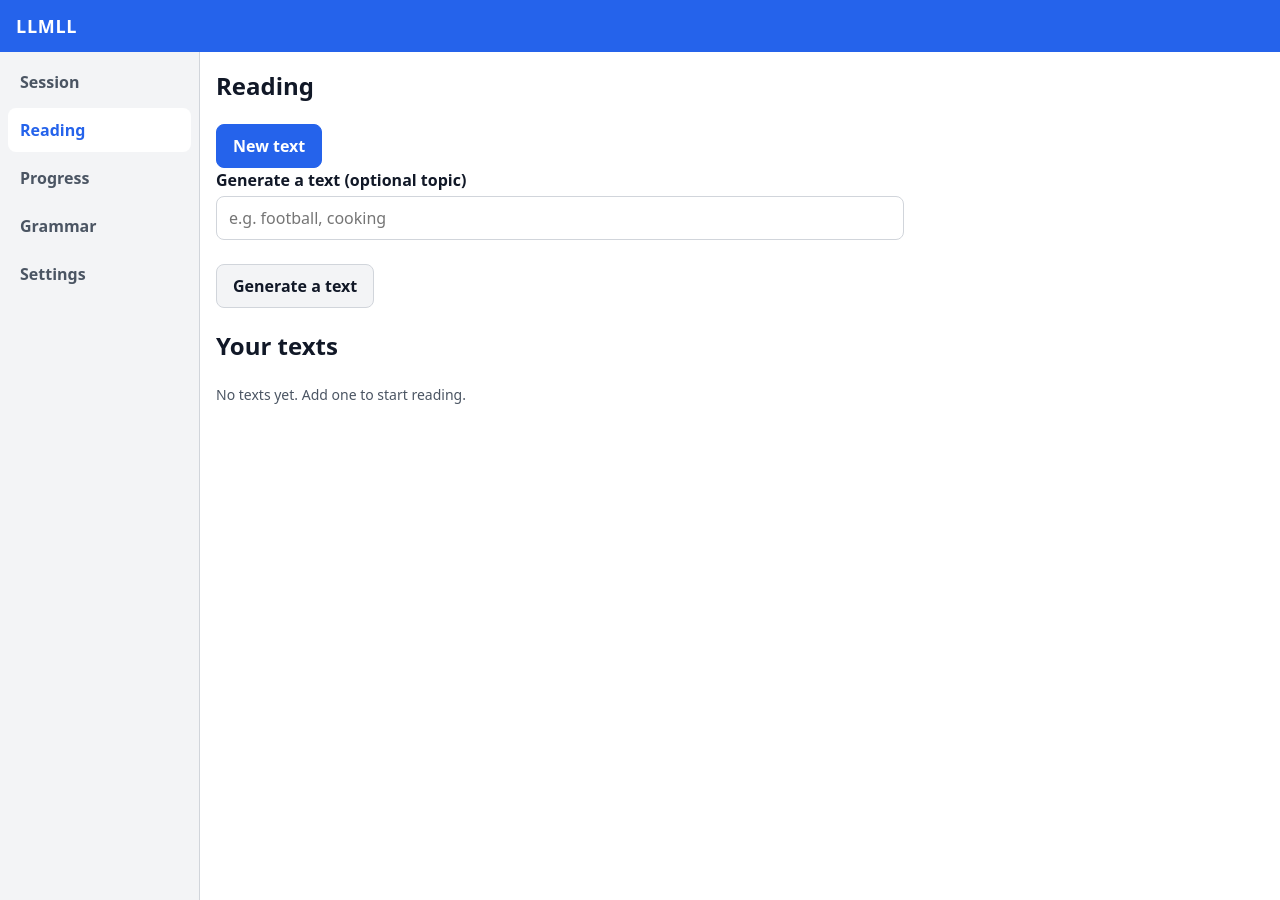
Test case: Reading list and new text › generates a text with a topic
This screenshot has width=1280, height=900.
Type "cucina" into the field labelled "Generate a text (optional topic)".
click(560, 218); type("cucina")  # box [216, 196, 904, 240]
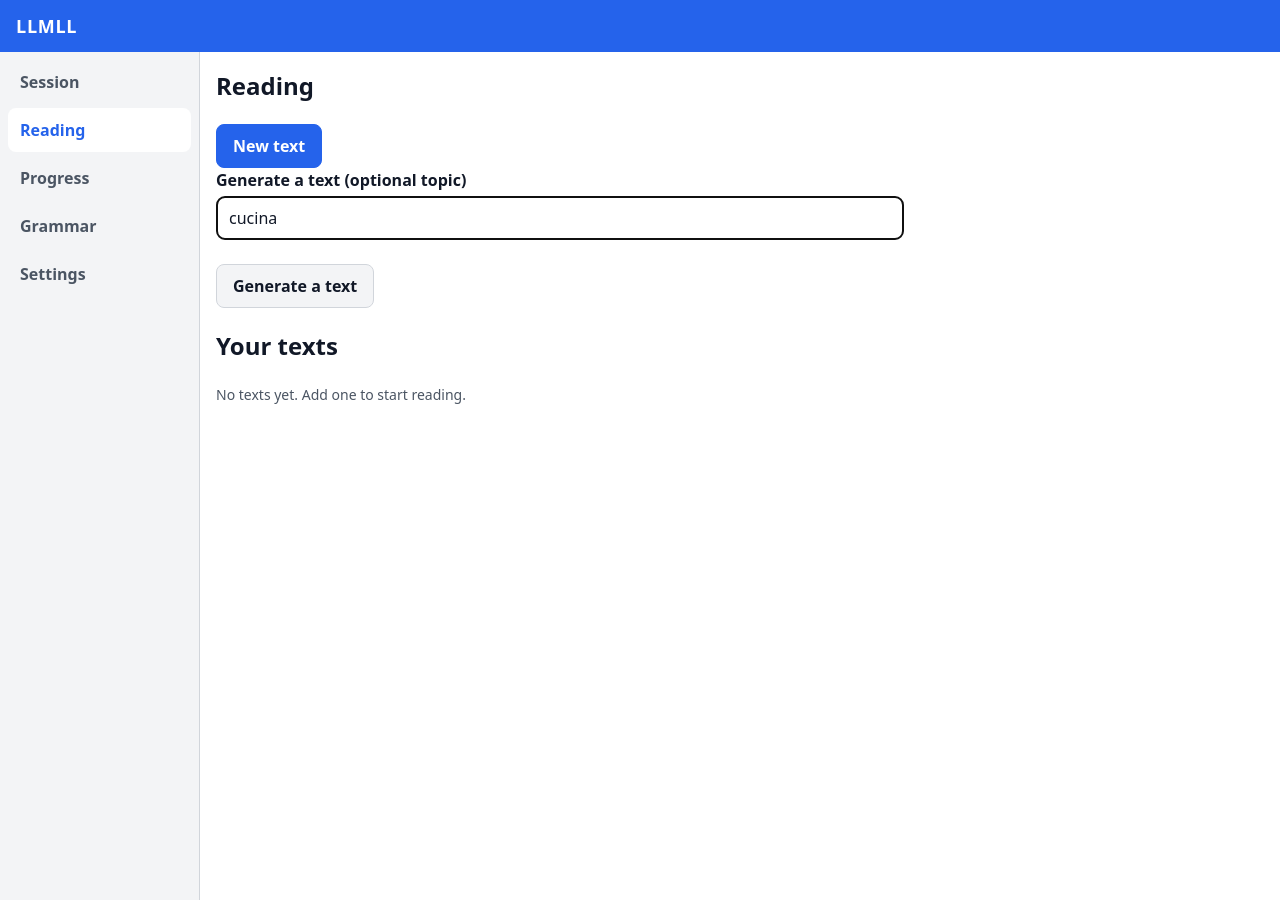
Click the button "Generate a text".
click(295, 286)  # box [216, 264, 374, 308]
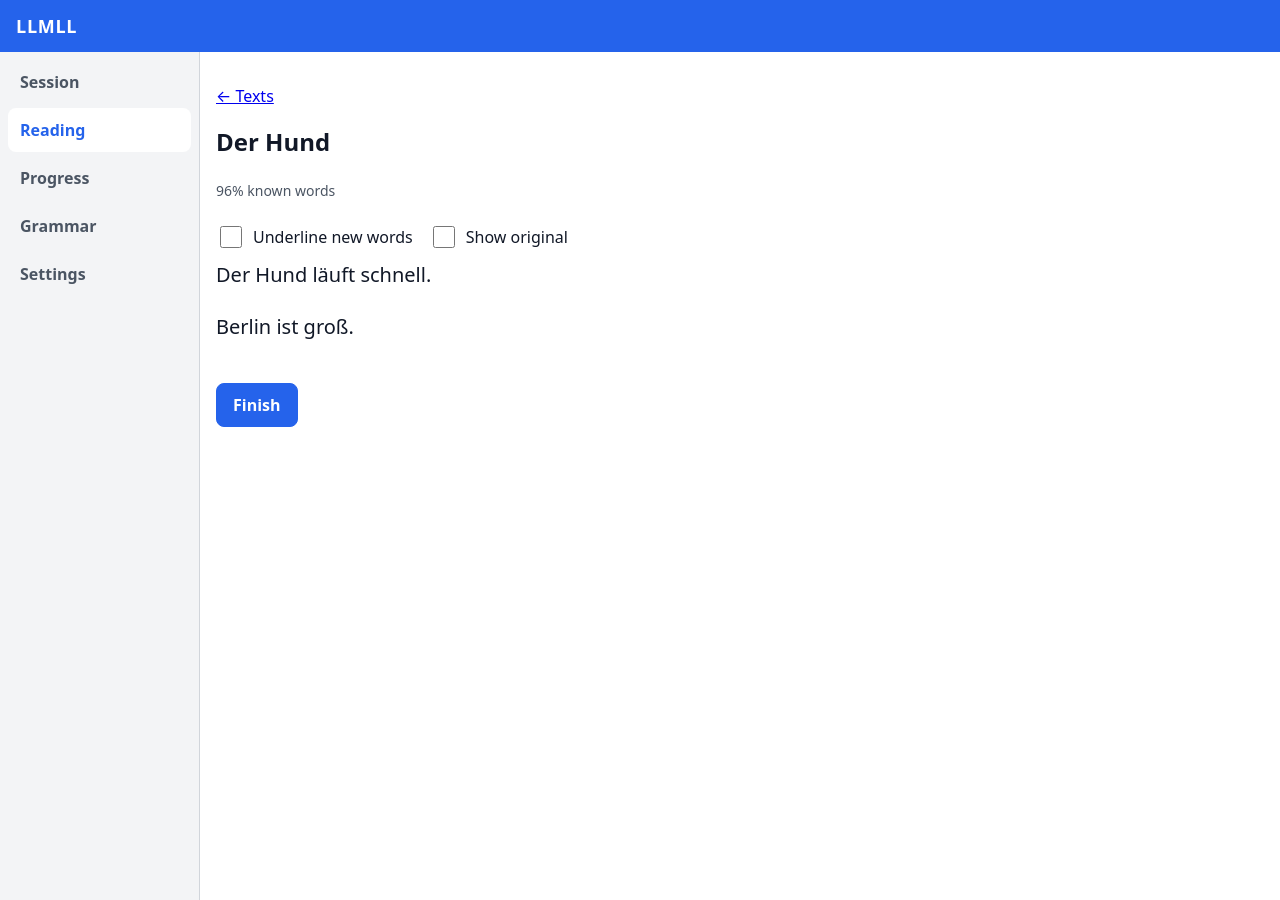
Expected: the button "Hund" is shown, [255, 259, 307, 291]
